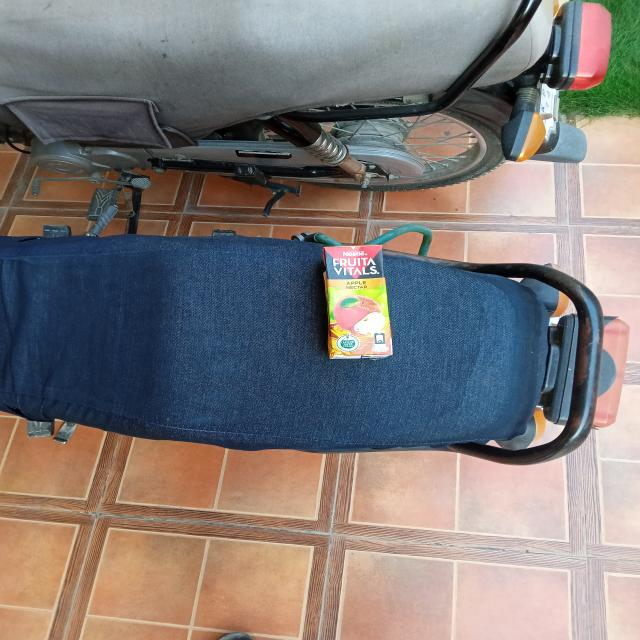Plastic: (318, 238, 400, 364)
